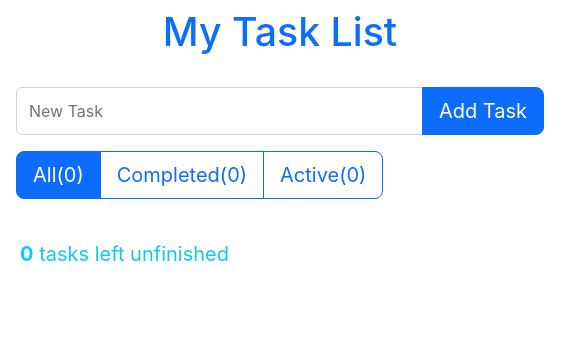
App › Mark the task as completed
This screenshot has width=561, height=352.
// Add a task
Type "Task 1" into the field with placeholder "New Task".
click(219, 111); type("Task 1")  # box [16,87,423,135]
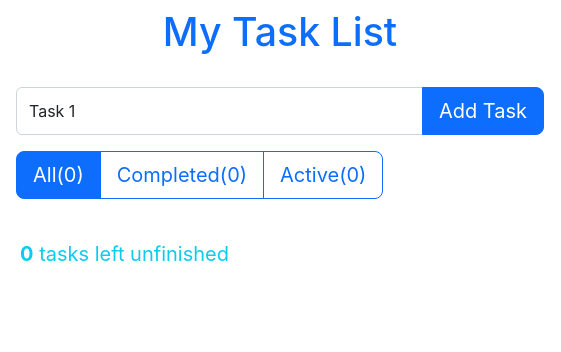
Click the button "Add Task".
click(483, 111)  # box [422,87,544,135]
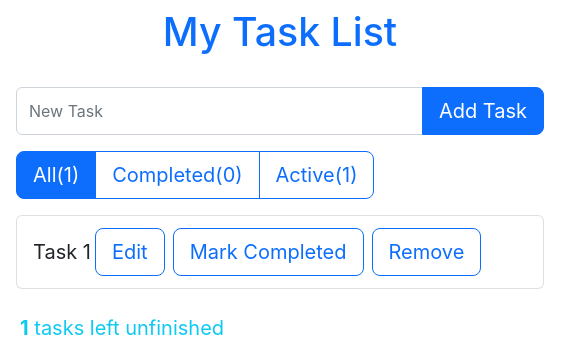
// Remove the task
Click the button "Mark Completed".
click(268, 252)  # box [173,228,364,276]
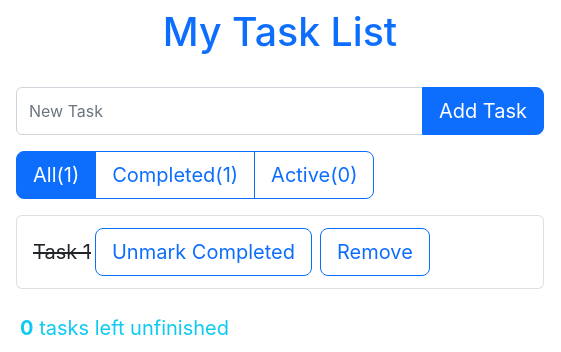
Result: the button "All(1)" is shown at [16,151,96,199]
Result: the button "Unmark Completed" is shown at [95,228,312,276]
Result: the button "Completed(1)" is shown at [95,151,255,199]
